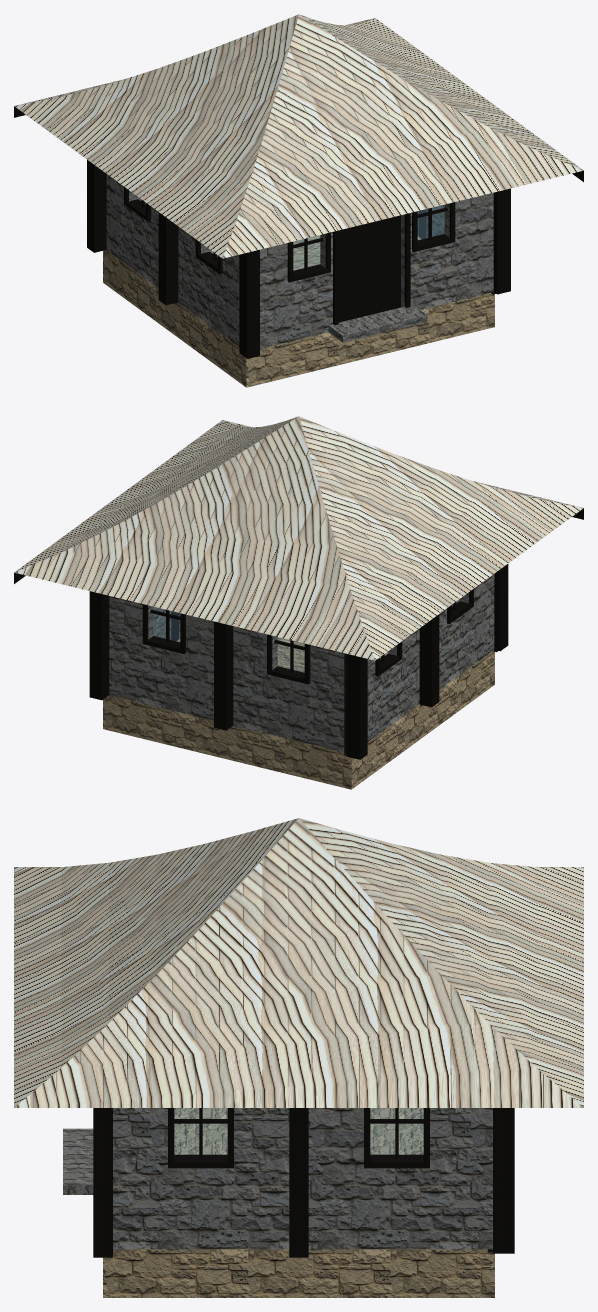
File: frost_shrine_01.glb
The picture shows the model from 3 angles, top to bottom: view 1: azimuth 30°, elevation 25°; view 2: azimuth 150°, elevation 25°; view 3: azimuth 270°, elevation 25°; orthographic projection. The views are drawn at different scales.
Parts seen in each view (by area): view 1: frost_shrine_01; view 2: frost_shrine_01; view 3: frost_shrine_01.
Part boxes in pixels (x1,y1,x2,y2): frost_shrine_01: [14, 14, 583, 387]; frost_shrine_01: [14, 416, 583, 789]; frost_shrine_01: [14, 818, 583, 1297].
Bounding box in the file's own units: 6.4 × 4.92 × 6.4.
Materials: 6 (5 with a texture image).
